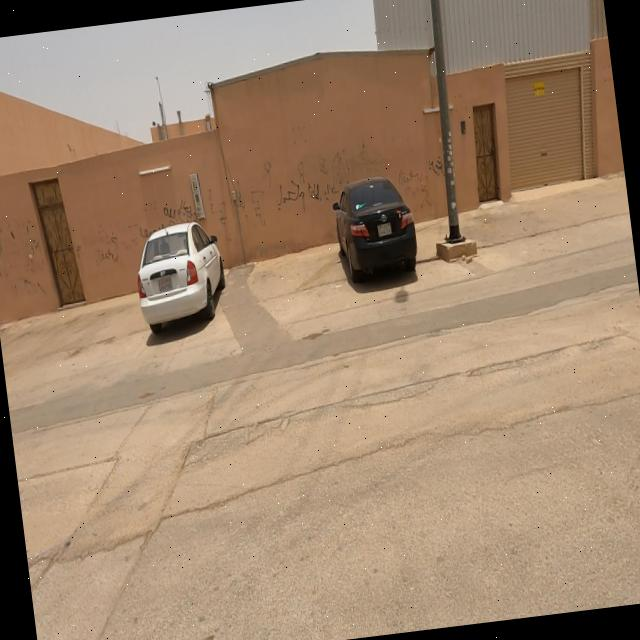Graffiti: (262, 138, 388, 212), (1, 215, 47, 296), (398, 155, 449, 212), (136, 199, 197, 244), (205, 184, 232, 230), (95, 231, 121, 268), (251, 185, 269, 228)
